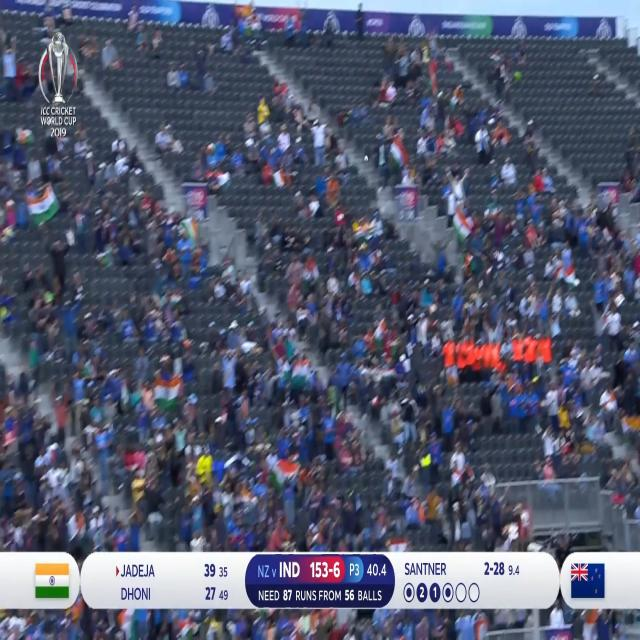ball: (360, 149, 373, 166)
